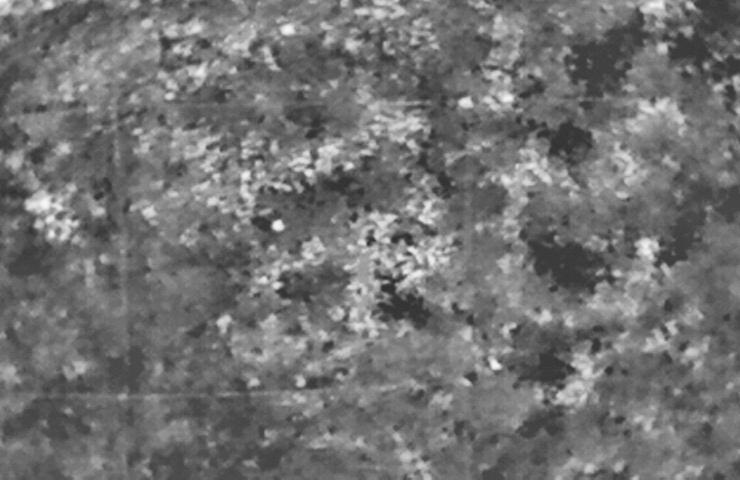landmines: (267, 214, 292, 236)
